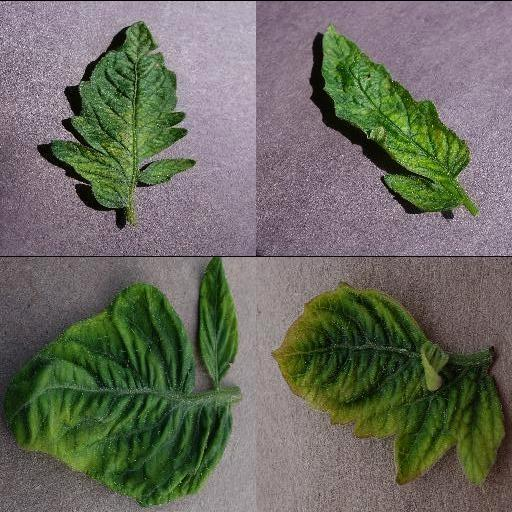Mosaic Virus: (320, 22, 472, 212), (46, 19, 196, 210)
Yellow Leaf Curl Virus: (3, 284, 233, 506), (270, 280, 506, 490), (197, 256, 241, 382)
